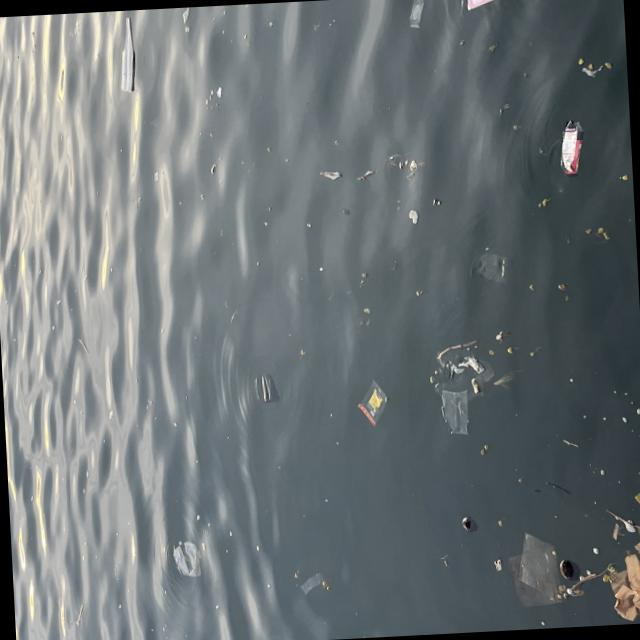foam: (560, 121, 586, 180)
